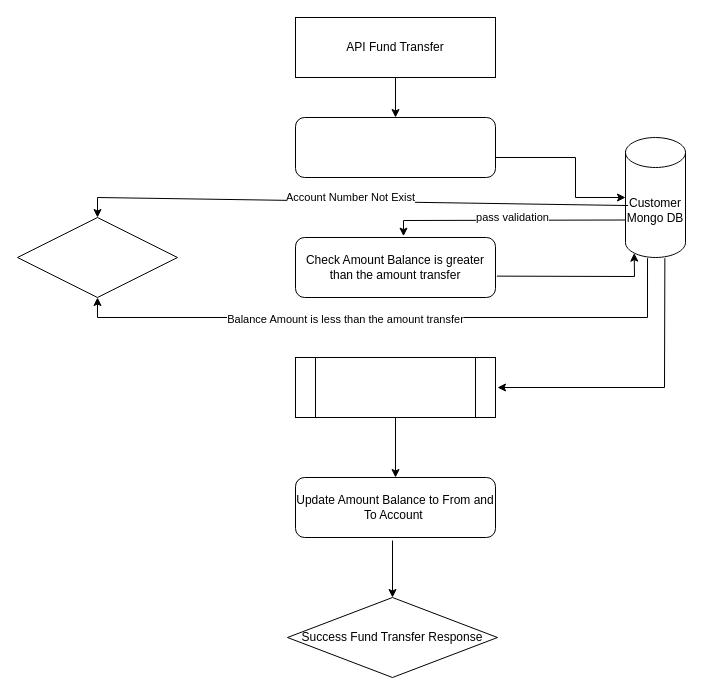
Some shapes in this 703 by 695 pixel diagram are drawn without their labels. The centre of each missing label's shape, as x and y in pixels:
Call Fund transfer MQ: (395,387)
Check Account Number Exists: (395,147)
Error Fund Transfer Validation Response: (97,257)
